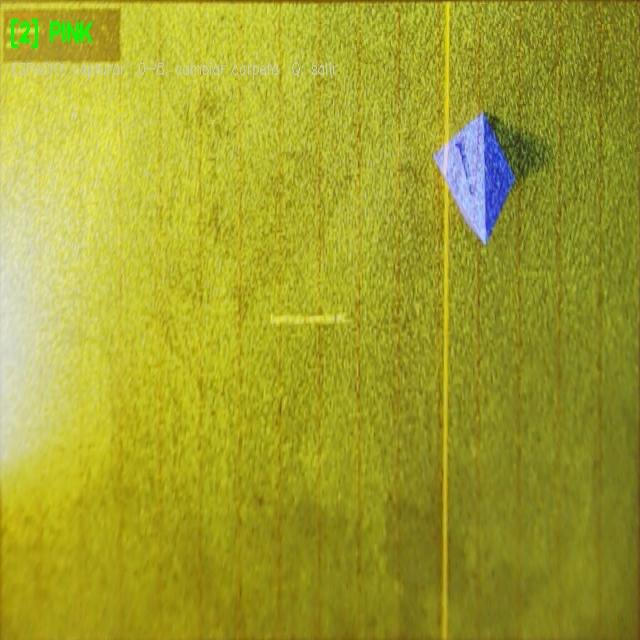pink: (434, 113, 514, 244)
